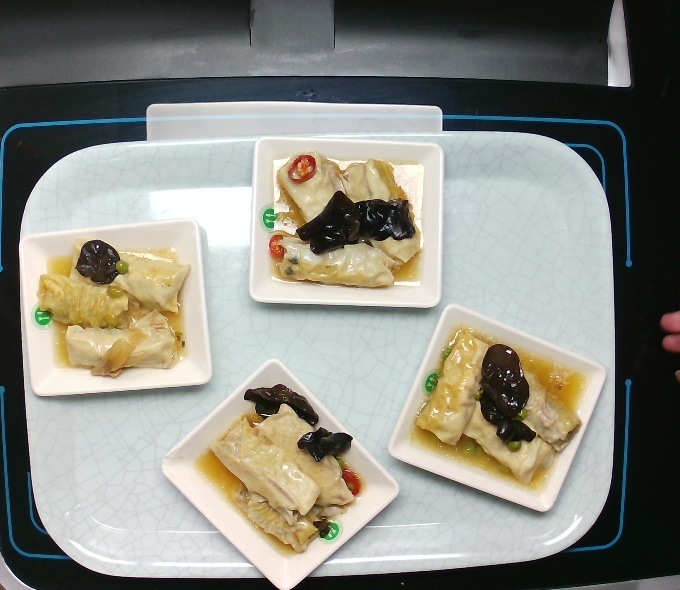wcq-QianZhangBao: (191, 379, 371, 561), (403, 321, 590, 495), (32, 233, 196, 383), (263, 146, 430, 292)
